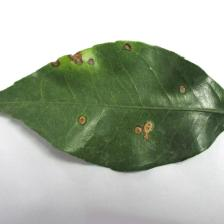canker: (28, 27, 188, 144)
